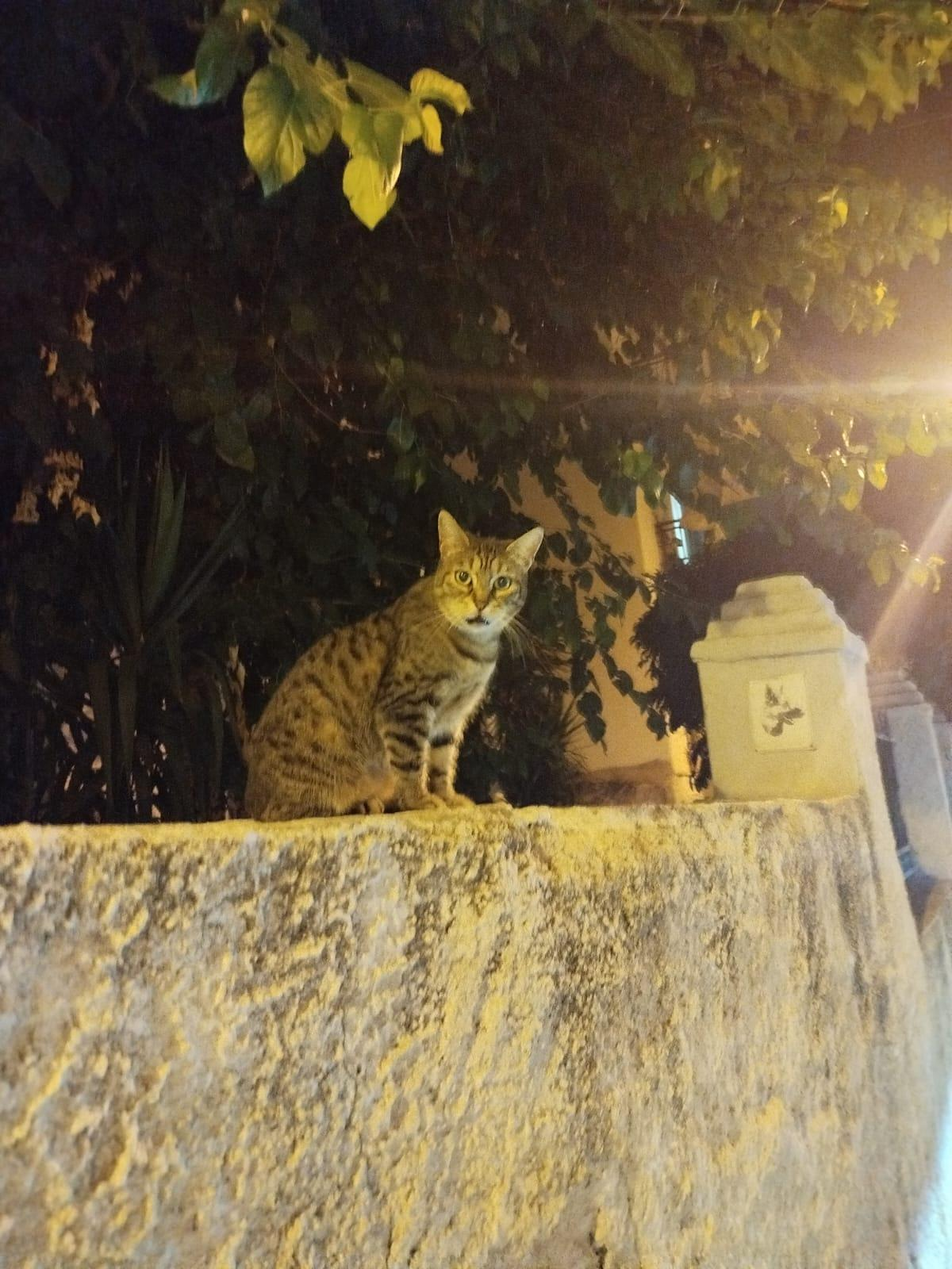macka: (244, 507, 545, 818)
